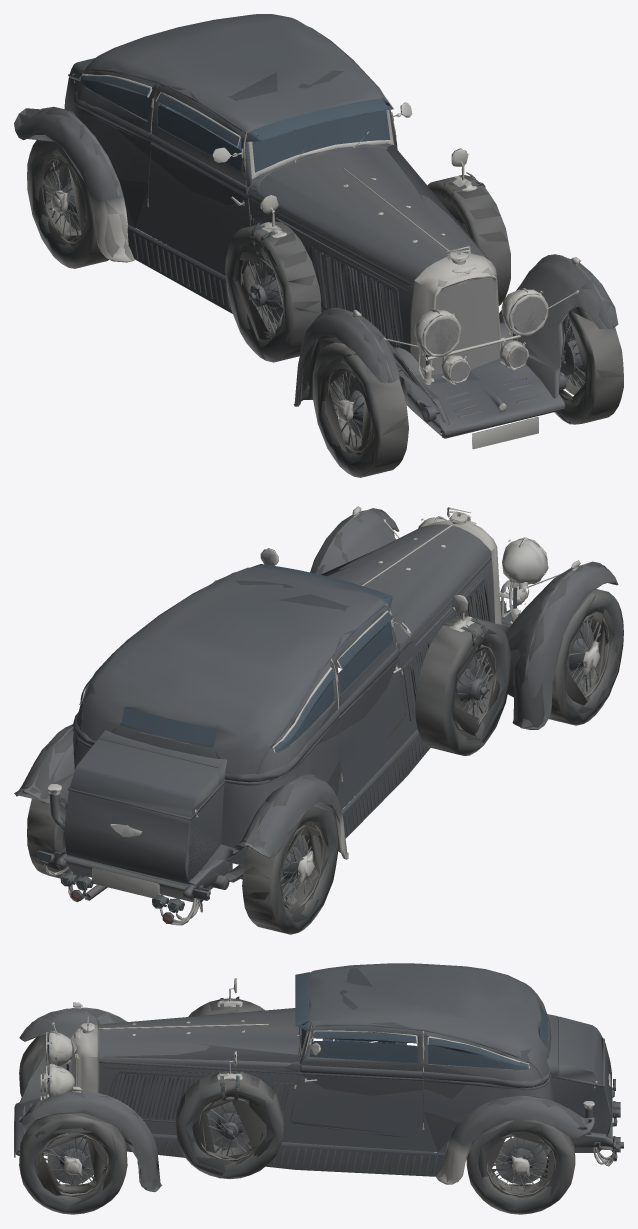
Rendered from bentley_bt.glb.
The picture shows the model from 3 angles, top to bottom: view 1: azimuth 30°, elevation 25°; view 2: azimuth 150°, elevation 25°; view 3: azimuth 270°, elevation 25°; orthographic projection. The views are drawn at different scales.
Parts seen in each view (by area): view 1: hi, mid, hi_glass, lo; view 2: hi, mid, hi_glass, lo; view 3: hi, mid, lo, hi_glass.
Part boxes in pixels (x1,y1,x2,y2): hi: (14,14,623,477); mid: (19,54,623,476); hi_glass: (80,75,515,329); lo: (25,108,593,453); hi: (14,506,623,934); mid: (18,508,619,930); hi_glass: (80,564,392,752); lo: (16,529,613,906); hi: (14,963,623,1214); mid: (14,967,620,1209); lo: (14,1033,611,1196); hi_glass: (47,972,548,1093).
Bounding box in the file's own units: 1.98 × 1.71 × 5.2.
